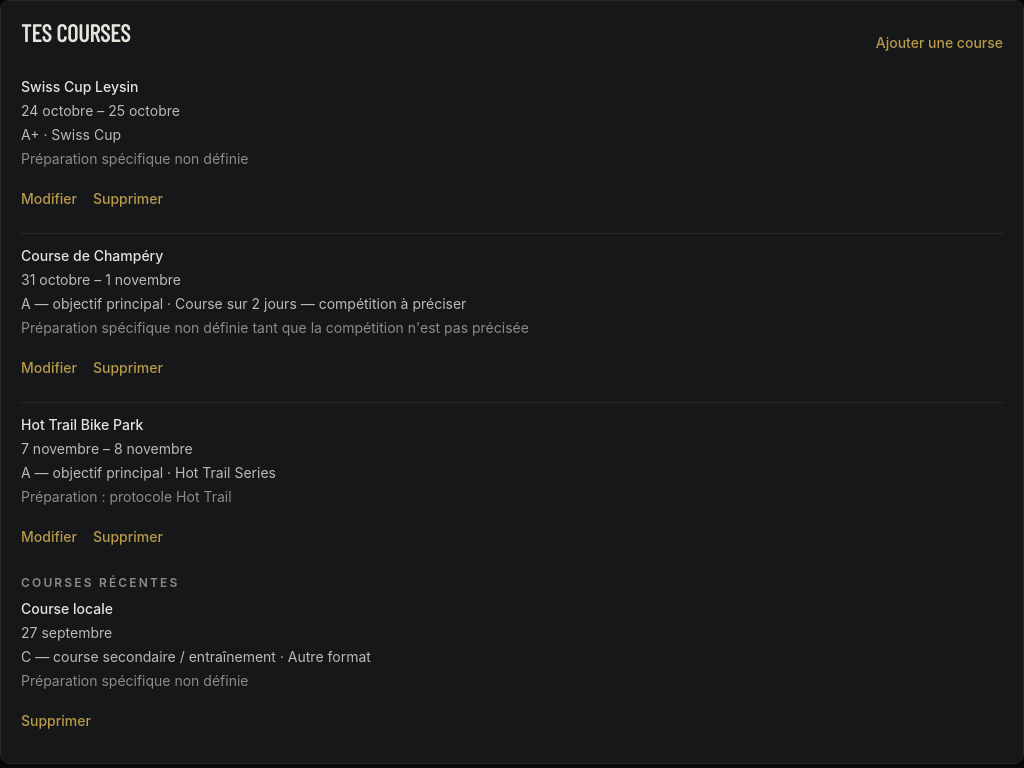
Scenario: A09 — Tes courses › create: no competition preselected (saving without one is refused); the Hot Trail Series chosen explicitly — its protocol shown, the end follows the start, writ
Click the button "Ajouter une course".
click(939, 43)  # box [876,21,1003,65]
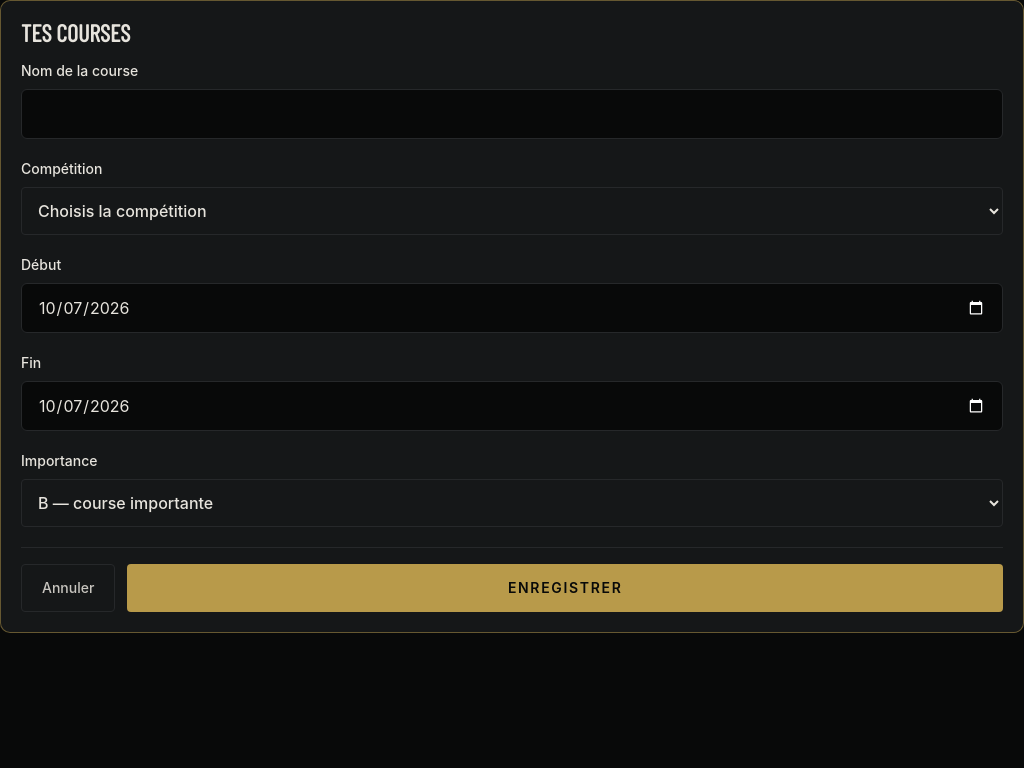
Expected: the dropdown labelled "Compétition" shows "Choisis la compétition", [21,187,1003,235]
Type "Hot Trail Bike Park" into the field labelled "Nom de la course".
click(512, 114); type("Hot Trail Bike Park")  # box [21,89,1003,139]
Type "2026-10-17" into the date field labelled "Début".
click(512, 308); type("2026-10-17")  # box [21,283,1003,333]
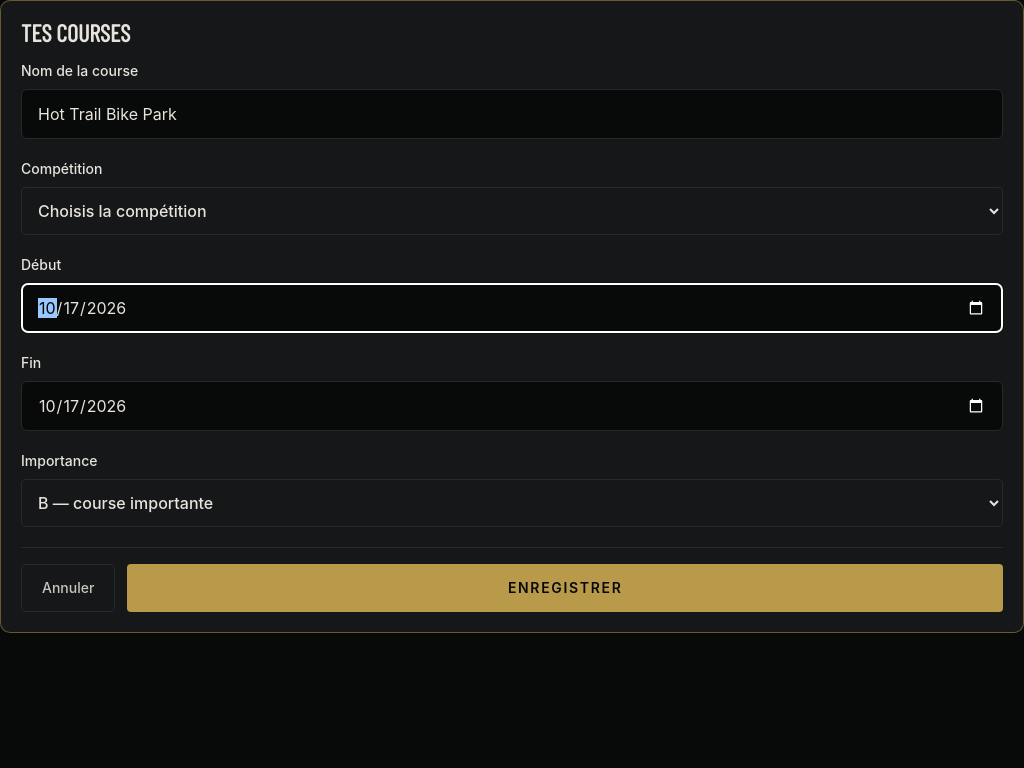
Expected: the date field labelled "Fin" is enabled, [21,381,1003,431]
Click the button "Enregistrer".
click(565, 588)  # box [127,564,1003,612]
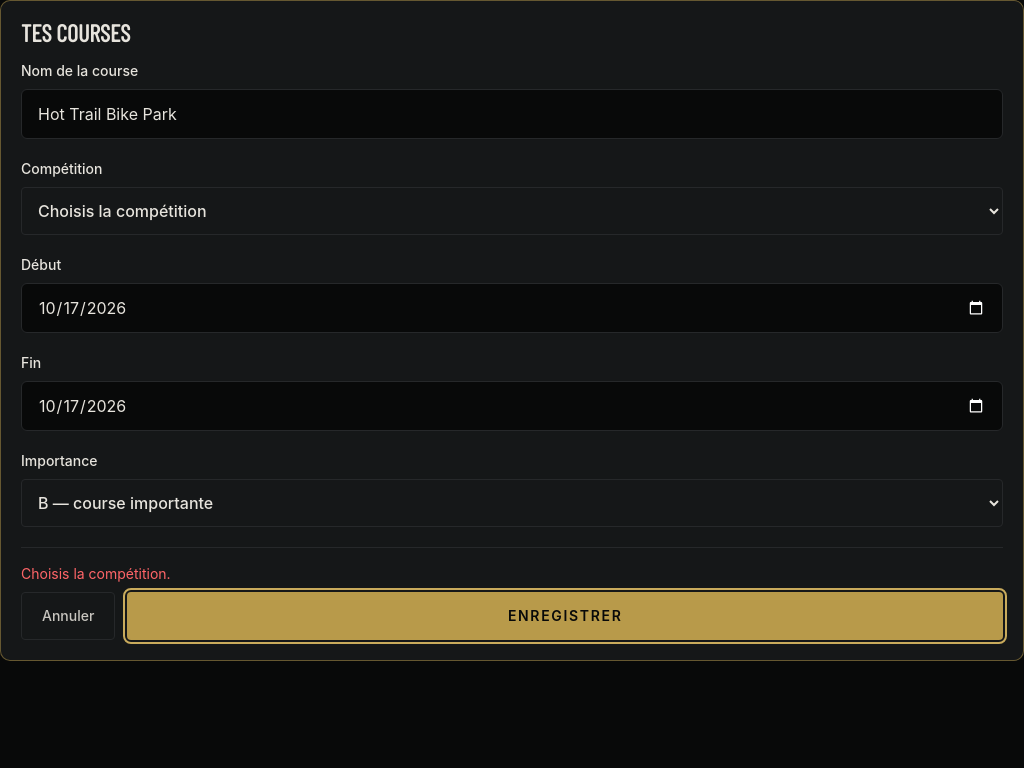
Expected: the message reads "Choisis la compétition.", [21,565,171,582]
Select "Hot Trail Series (Swiss DH Cup) — 2 jours : entraînements et chrono, puis finale" in the dropdown labelled "Compétition" at (512, 211), box [21,187,1003,235]
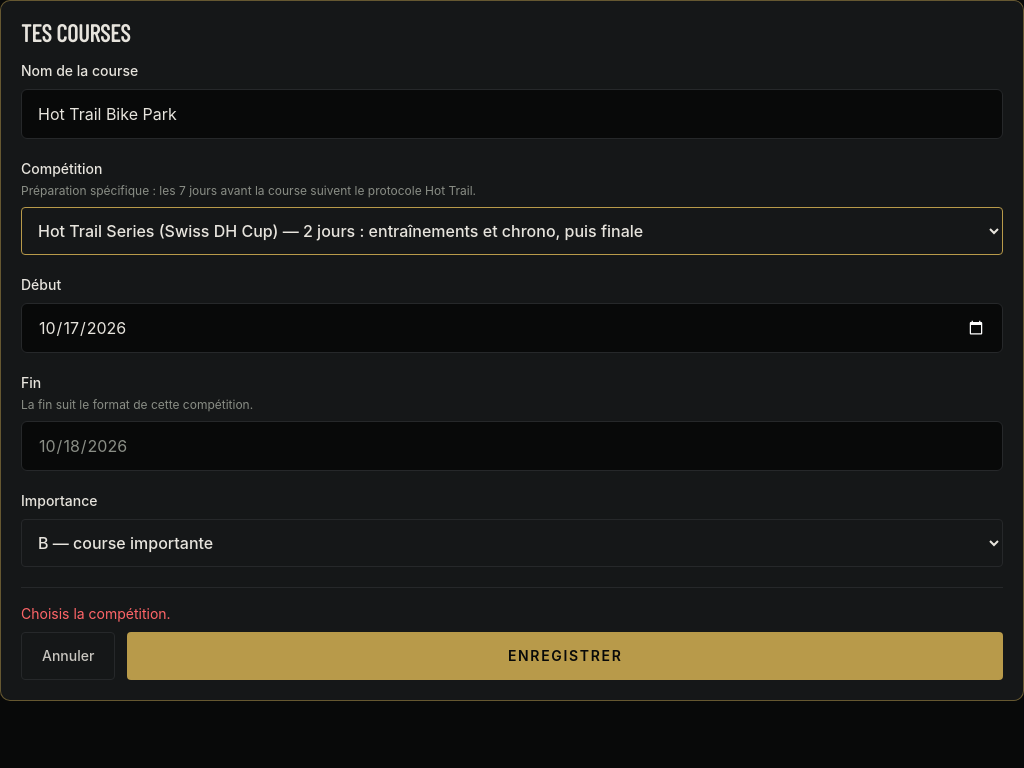
Expected: the text "Préparation spécifique : les 7 jours avant la course suivent le protocole Hot Trail." is shown, [21,183,476,198]
Expected: the date field labelled "Fin La fin suit le format de cette compétition." holds "2026-10-18", [21,421,1003,471]
Expected: the date field labelled "Fin La fin suit le format de cette compétition." is disabled, [21,421,1003,471]
Select "A — objectif principal" in the dropdown labelled "Importance" at (512, 543), box [21,519,1003,567]
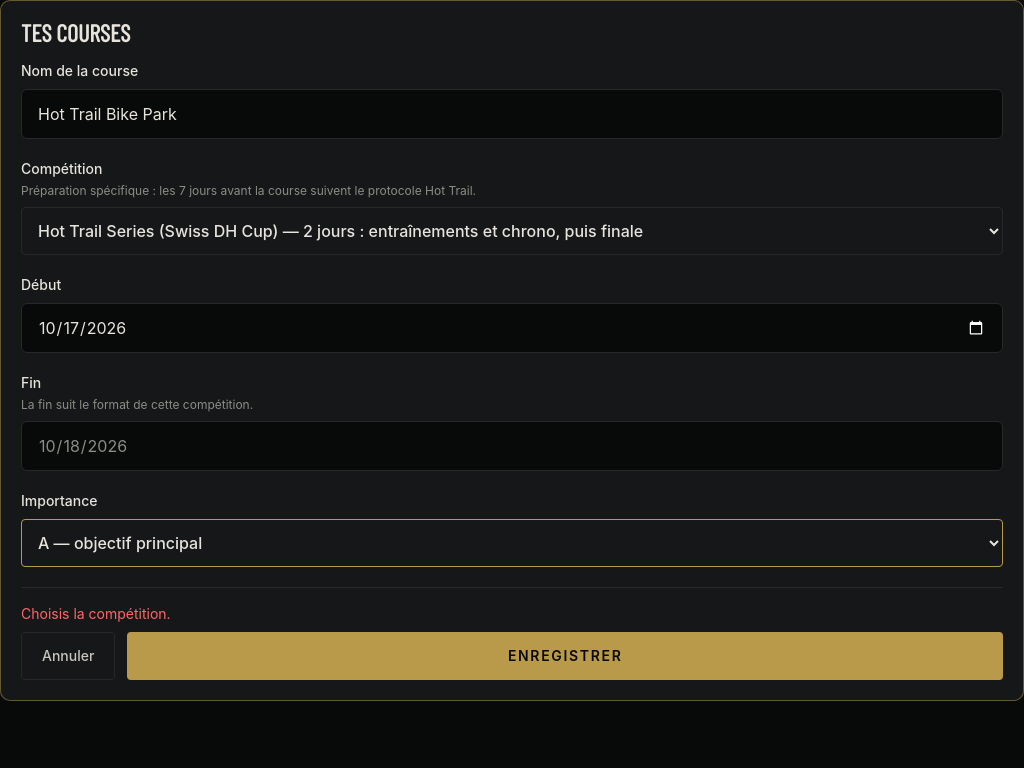
Click the button "Enregistrer".
click(565, 656)  # box [127,632,1003,680]
(page scrolled)
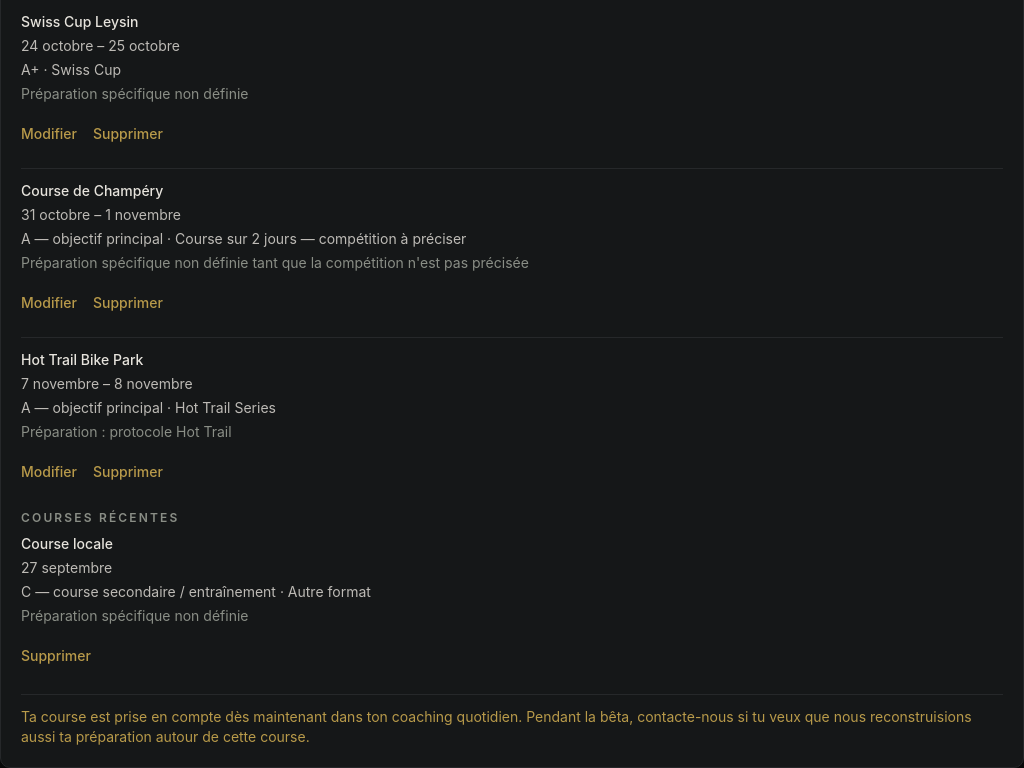
Expected: the message shows "Ta course est prise en compte dès maintenant dans ton coaching quotidien. Pendant la bêta, contacte-nous si tu veux que nous reconstruisions aussi ta préparatio", [21,708,972,745]
Expected: the text "Hot Trail Bike Park" is shown 2 times
